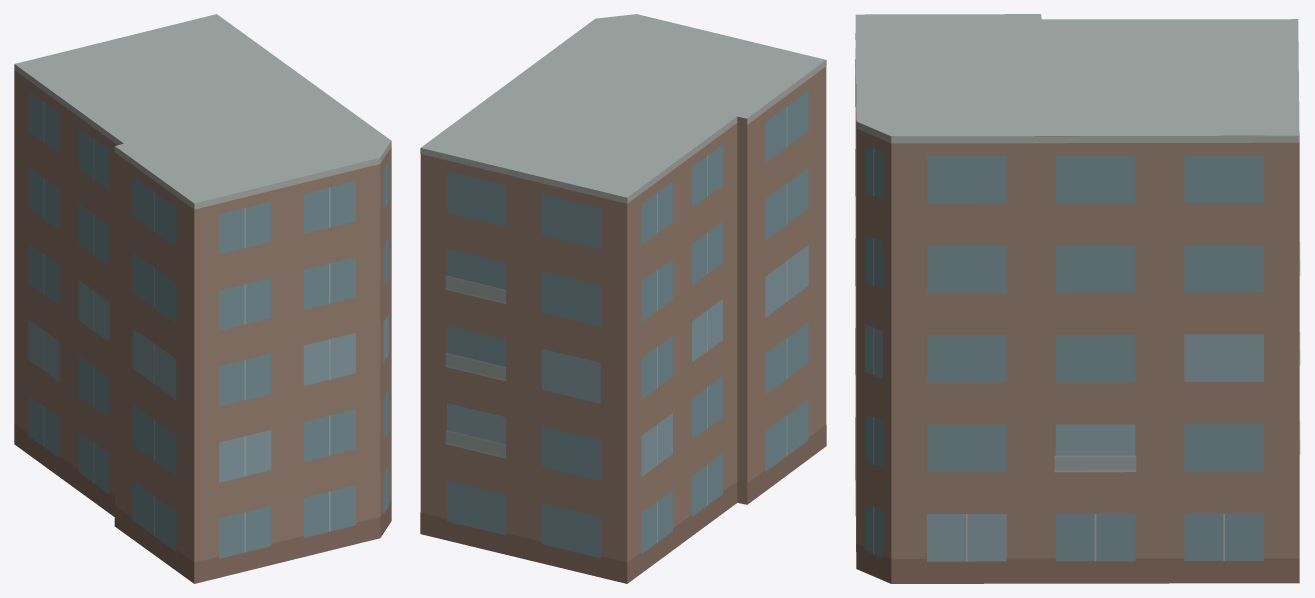
The model's file is survey-upis-32976432.glb.
3 renders of one model, left to right at view 1: azimuth 30°, elevation 25°; view 2: azimuth 150°, elevation 25°; view 3: azimuth 270°, elevation 25°, orthographic. The views are drawn at different scales.
Parts seen in each view (by area): view 1: survey-upis-32976432.tmp; view 2: survey-upis-32976432.tmp; view 3: survey-upis-32976432.tmp.
Part boxes in pixels (<box>): survey-upis-32976432.tmp: <box>14,14,391,583</box>; survey-upis-32976432.tmp: <box>420,14,826,583</box>; survey-upis-32976432.tmp: <box>855,14,1300,583</box>.
Size of the model in its own units: 9.05 by 15.4 by 13.89.
